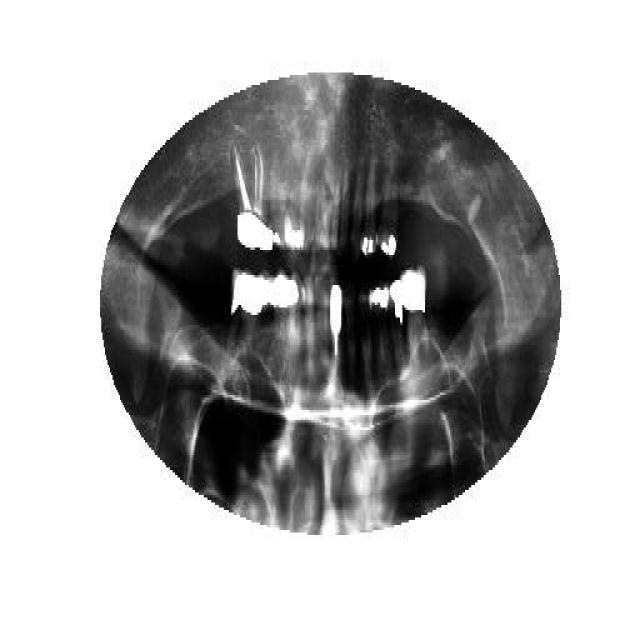Fillings: (230, 268, 258, 362), (403, 270, 425, 358), (276, 268, 299, 348), (380, 165, 398, 260), (258, 270, 276, 362), (370, 285, 390, 367), (362, 165, 378, 260), (388, 278, 402, 382)
Implant: (232, 140, 272, 250), (328, 282, 342, 372)
